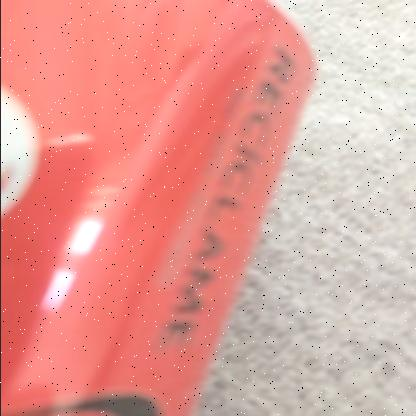Can: (0, 0, 317, 416)
